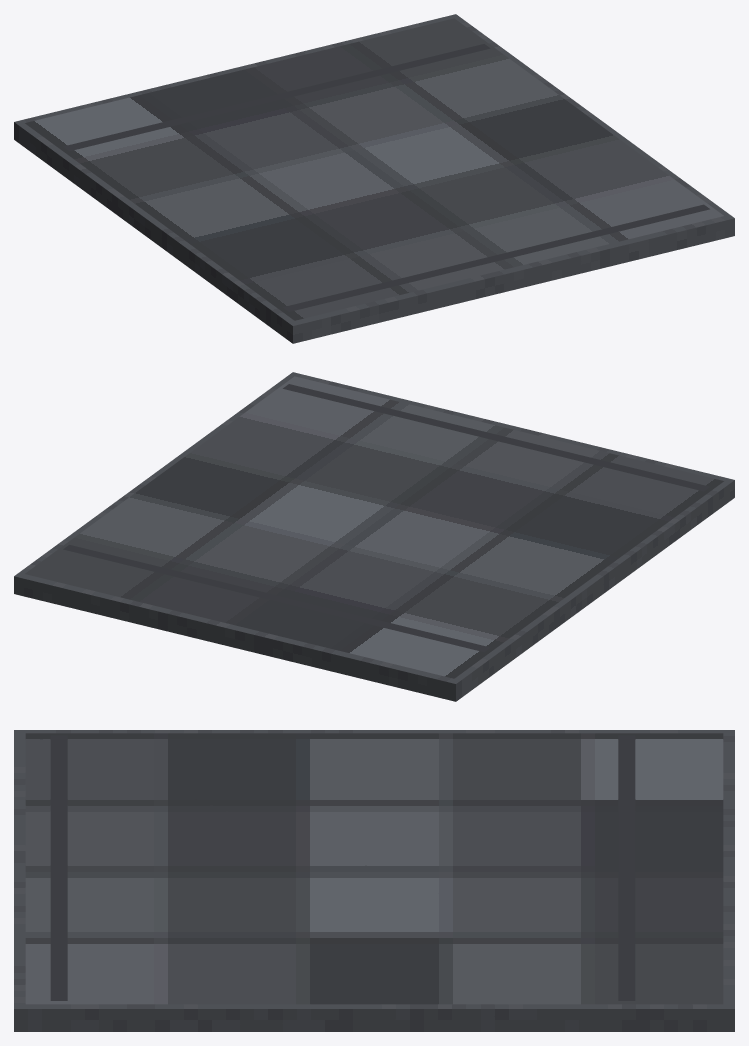
Rendered from sheet_neoprene_patchwork.glb.
3 renders of one model, top to bottom at view 1: azimuth 30°, elevation 25°; view 2: azimuth 150°, elevation 25°; view 3: azimuth 270°, elevation 25°, orthographic. The views are drawn at different scales.
Parts seen in each view (by area): view 1: block_stitched patchwork, block_flat stock, block_edge crease (×2); view 2: block_stitched patchwork, block_flat stock, block_edge crease (×2); view 3: block_stitched patchwork, block_flat stock, block_edge crease (×2).
Boxes of the visible parts, x1=… form: block_stitched patchwork: x1=25, y1=18, x2=723, y2=320; block_flat stock: x1=14, y1=14, x2=734, y2=343; block_edge crease (×2): x1=63, y1=44, x2=709, y2=311; block_stitched patchwork: x1=25, y1=376, x2=723, y2=678; block_flat stock: x1=14, y1=372, x2=734, y2=701; block_edge crease (×2): x1=63, y1=384, x2=709, y2=652; block_stitched patchwork: x1=25, y1=733, x2=723, y2=1004; block_flat stock: x1=14, y1=730, x2=734, y2=1031; block_edge crease (×2): x1=50, y1=735, x2=635, y2=1000.
Size of the model in its own units: 0.1645 by 0.0067 by 0.1798.
Materials: 1 (1 with a texture image).
